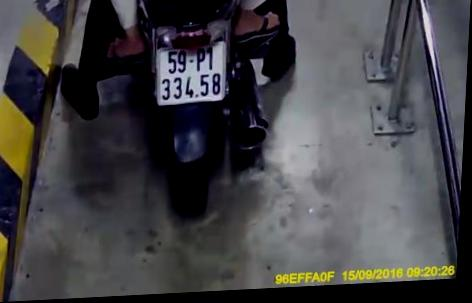License_Plate: (144, 39, 237, 108)
